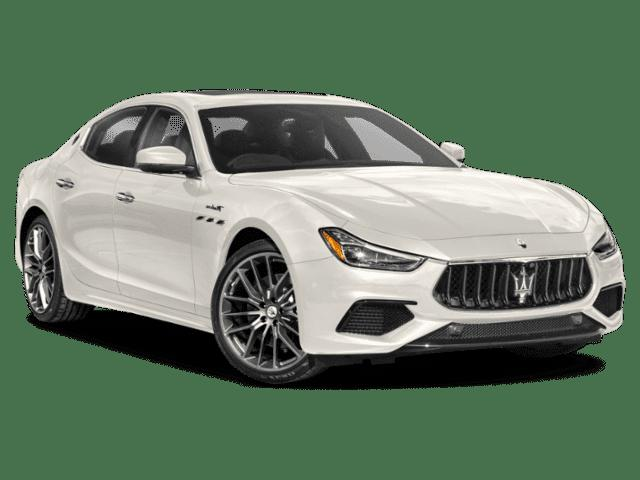maserati: (15, 89, 627, 385)
